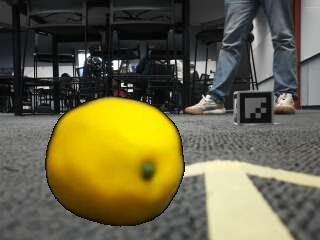lemon: (45, 98, 181, 224)
